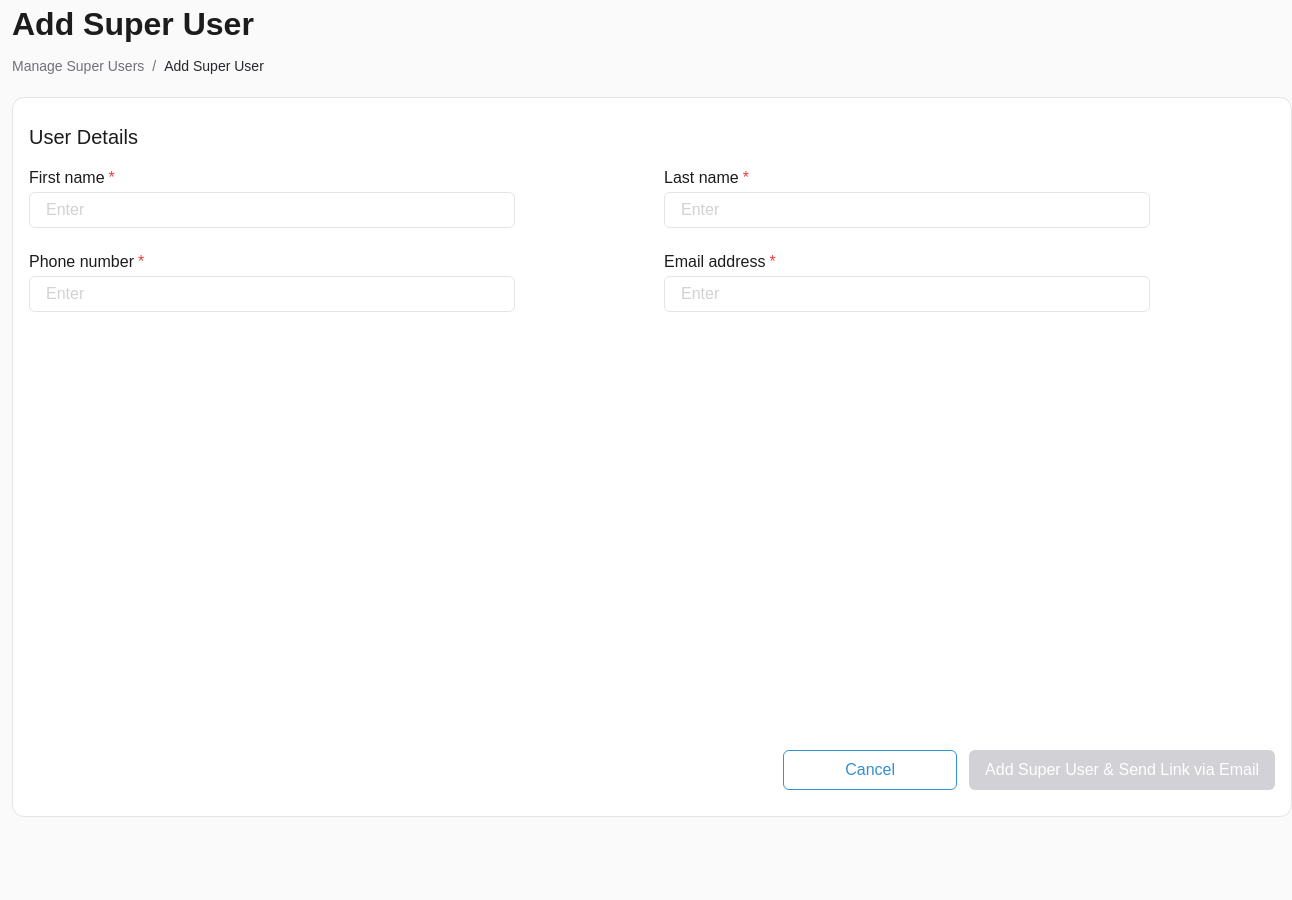
Test: InviteSuperUserPage › submit button is disabled when email is invalid
Type "Raj" into the field labelled "First name*". click: [272, 210]
box: [29, 192, 515, 228]
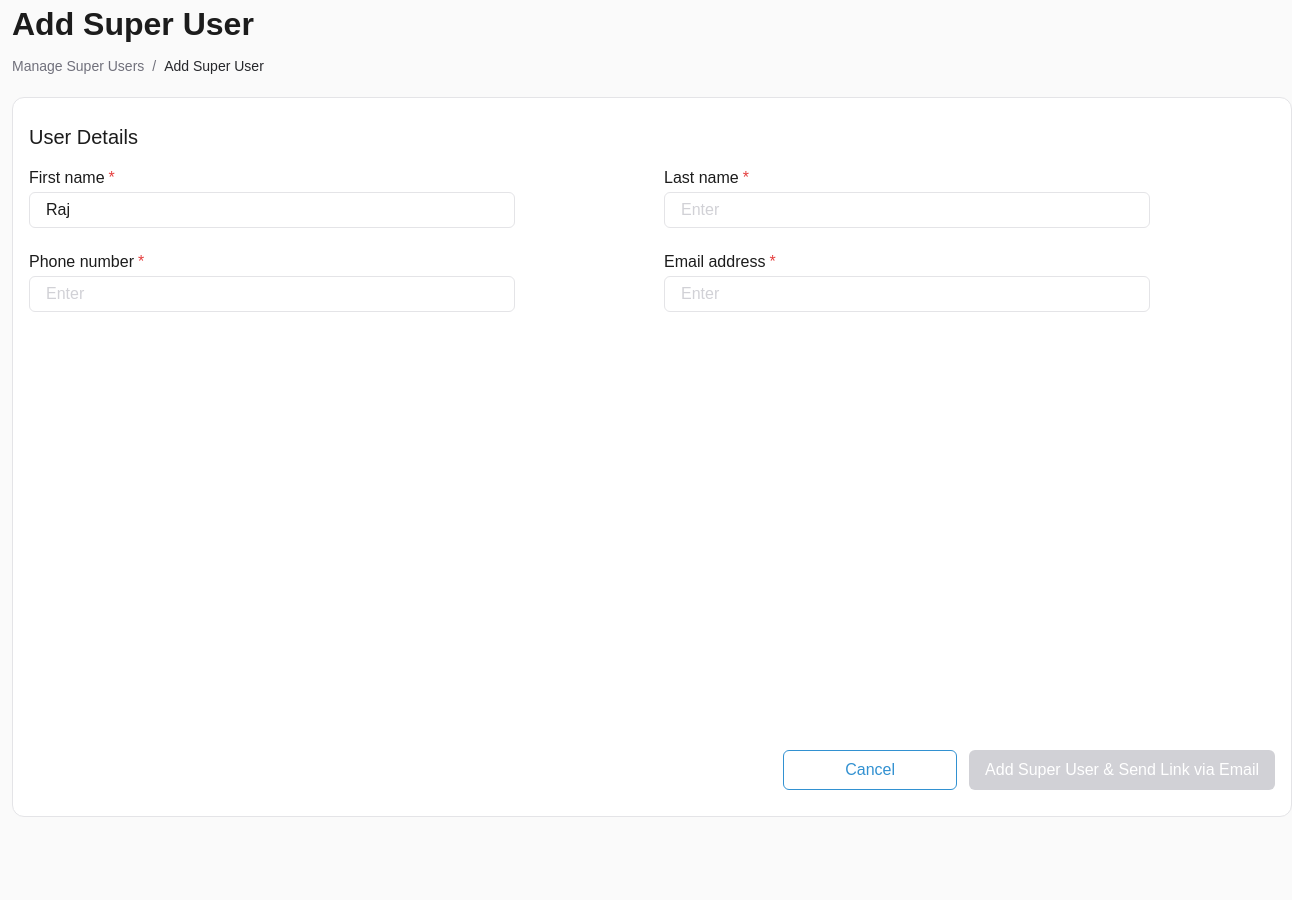
Type "Sharma" into the field labelled "Last name*". click: [907, 210]
box: [664, 192, 1150, 228]
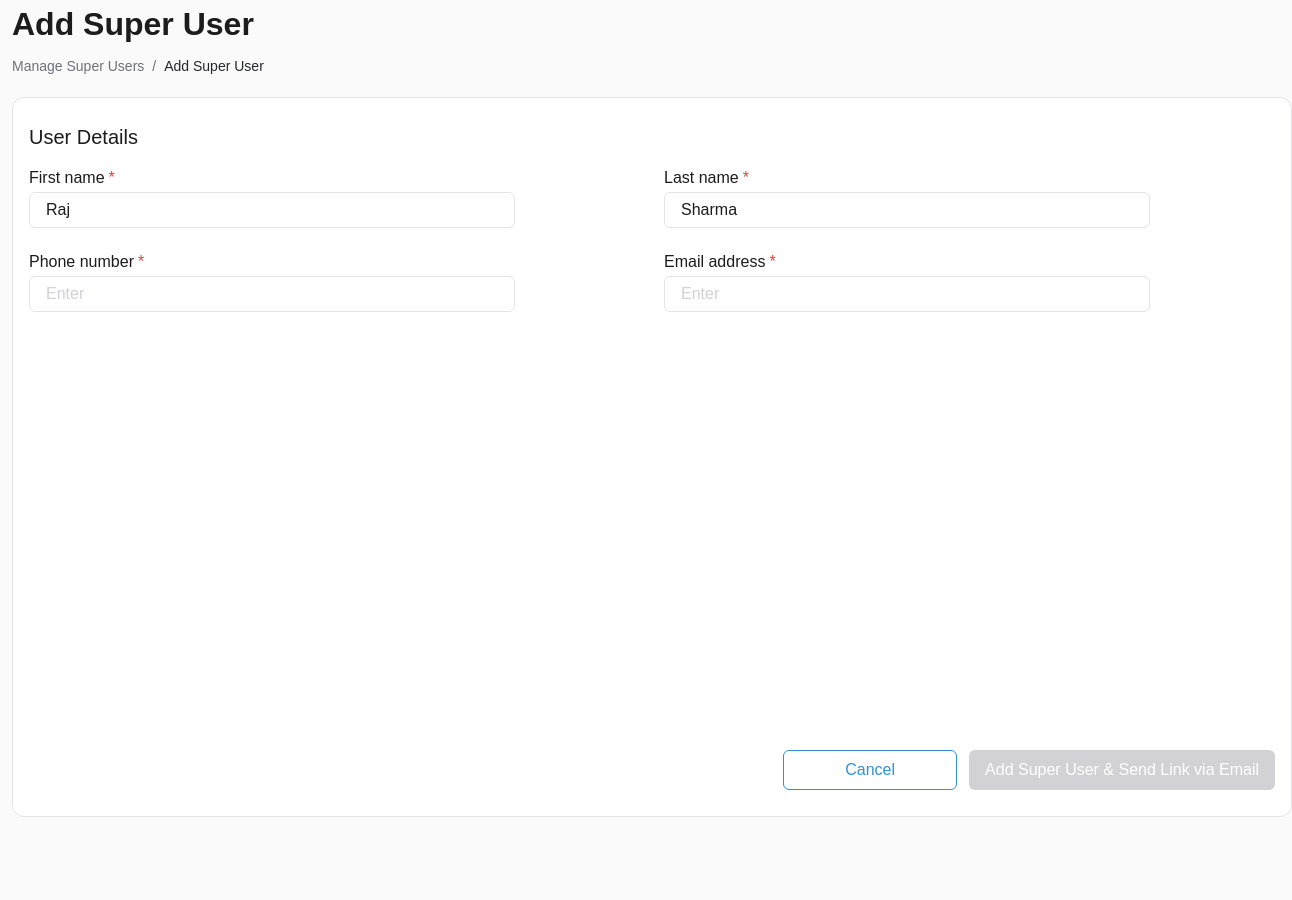
Type "9876543210" into the field labelled "Phone number*". click: [272, 294]
box: [29, 276, 515, 312]
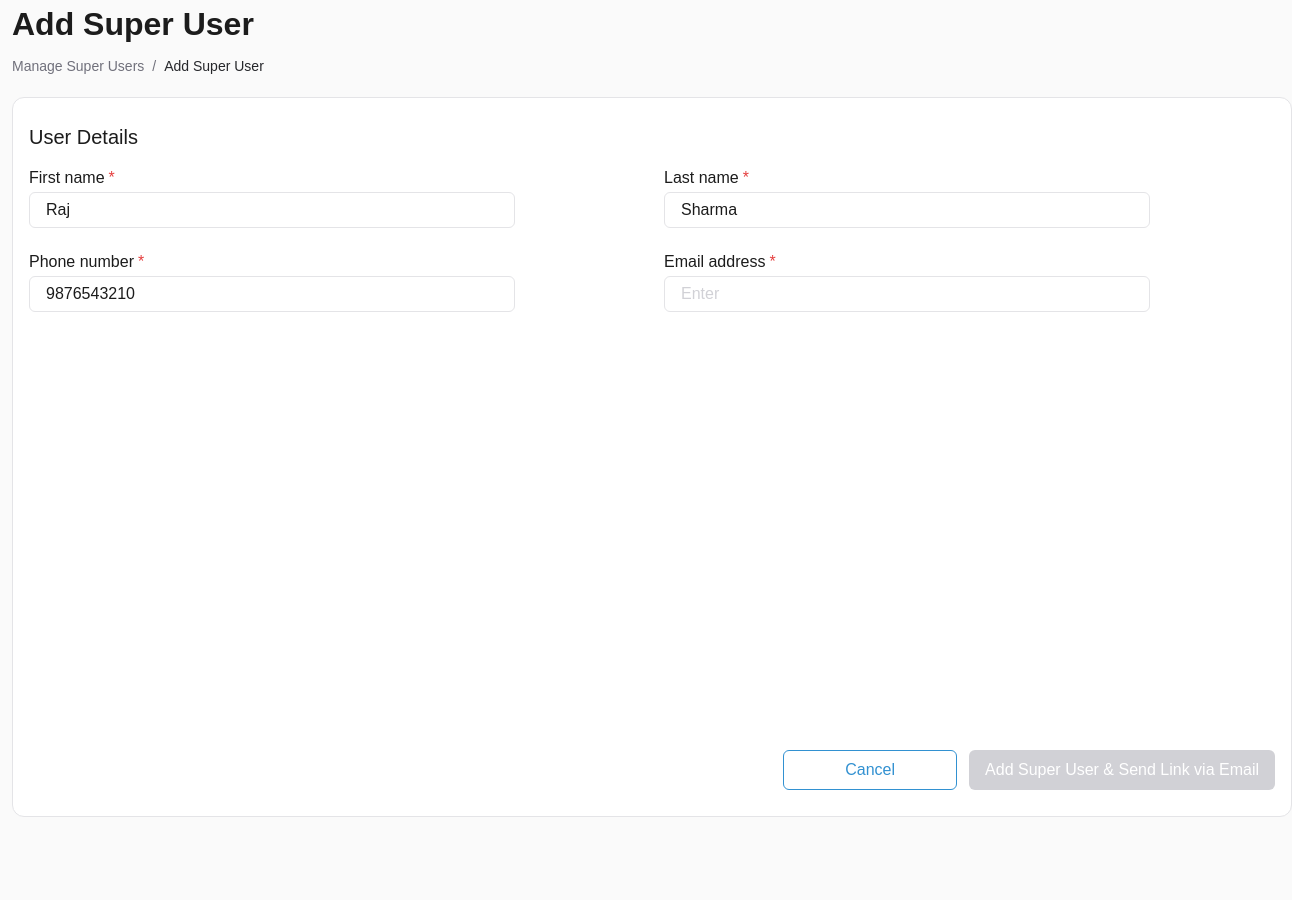
Type "valid@example.com" into the field labelled "Email address*". click: [907, 294]
box: [664, 276, 1150, 312]
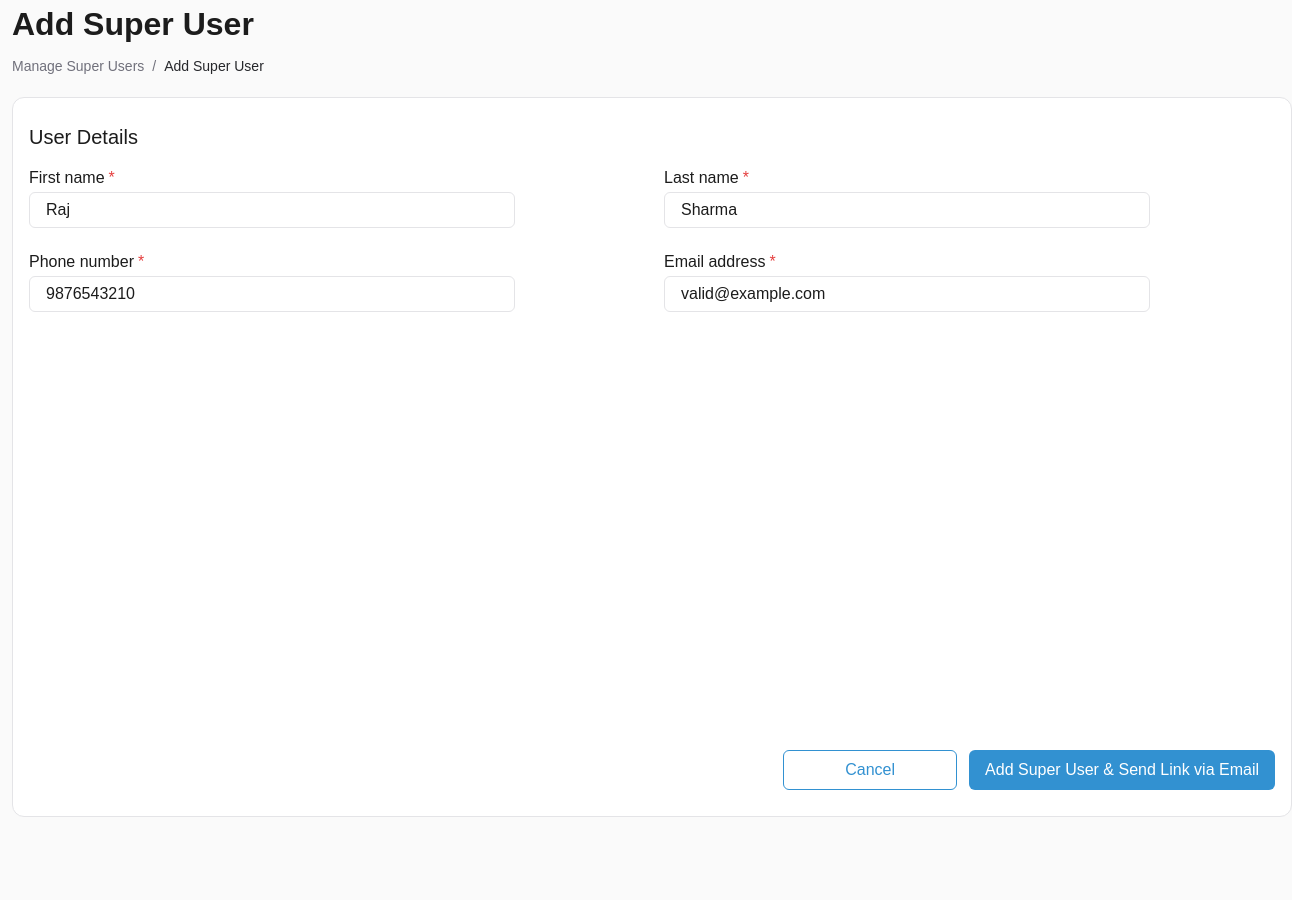
Replace the text in the field labelled "Email address*" with "notanemail". click: [907, 294]
box: [664, 276, 1150, 312]
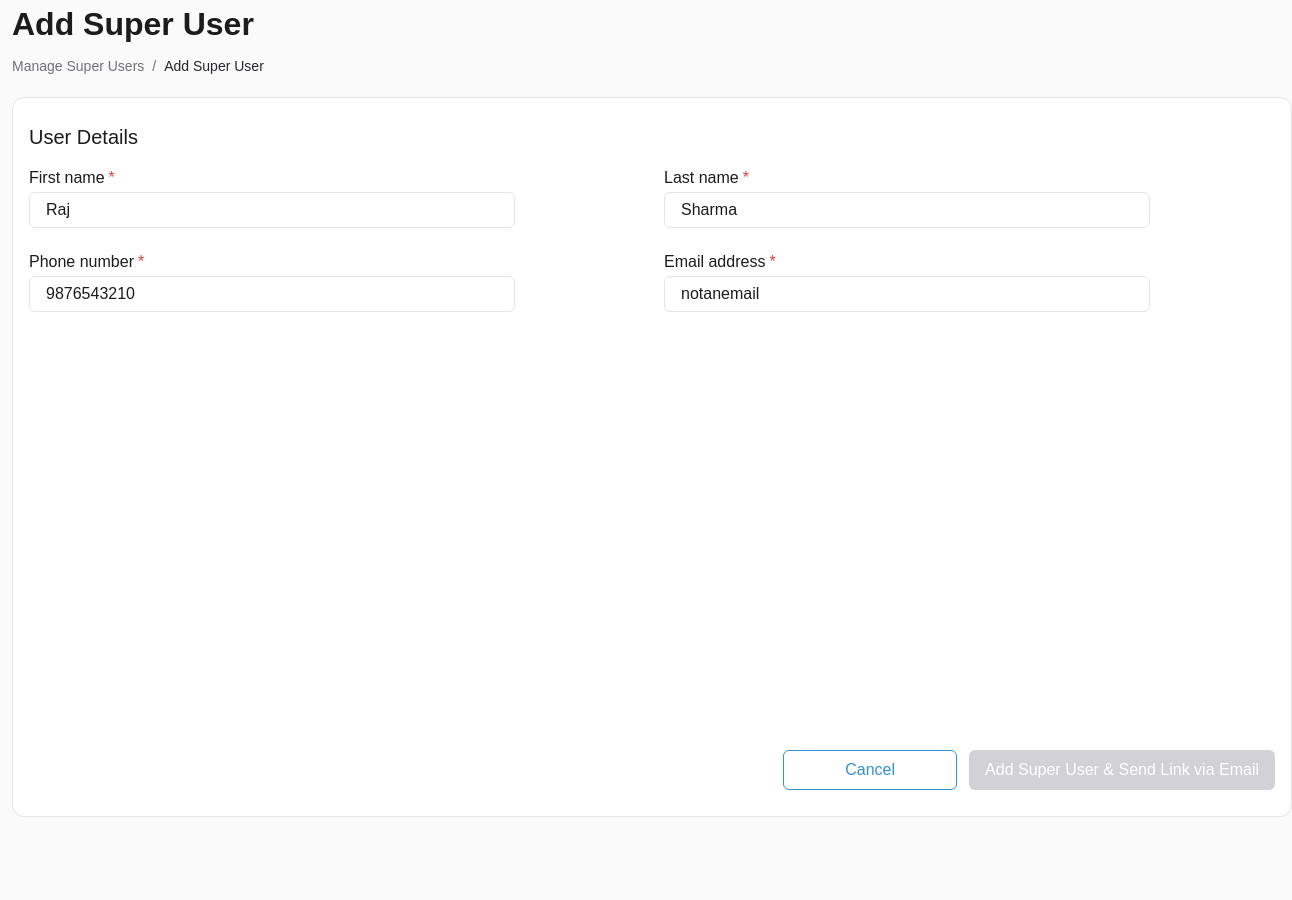
expect the button "Add Super User & Send Link via Email" is disabled: met, box [969, 750, 1275, 790]
